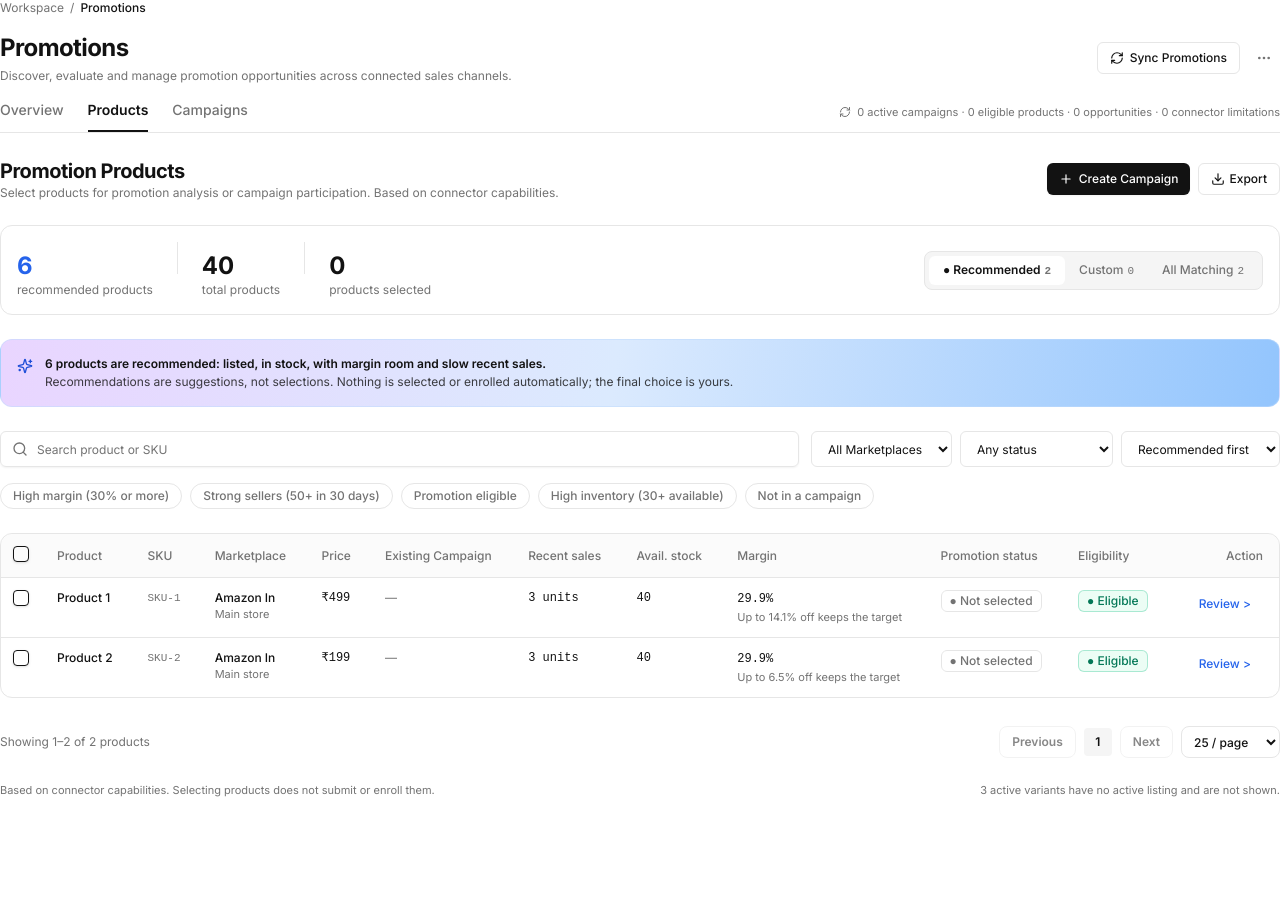
Test: Products tab › opens the Create Campaign dialog with the real products, prices, channel and a margin-safe discount
Expected: the text "Product 1" is shown, [57, 590, 116, 606]
Click the checkbox named "Select all on this page" at coordinates (21, 554), box [13, 546, 29, 562]
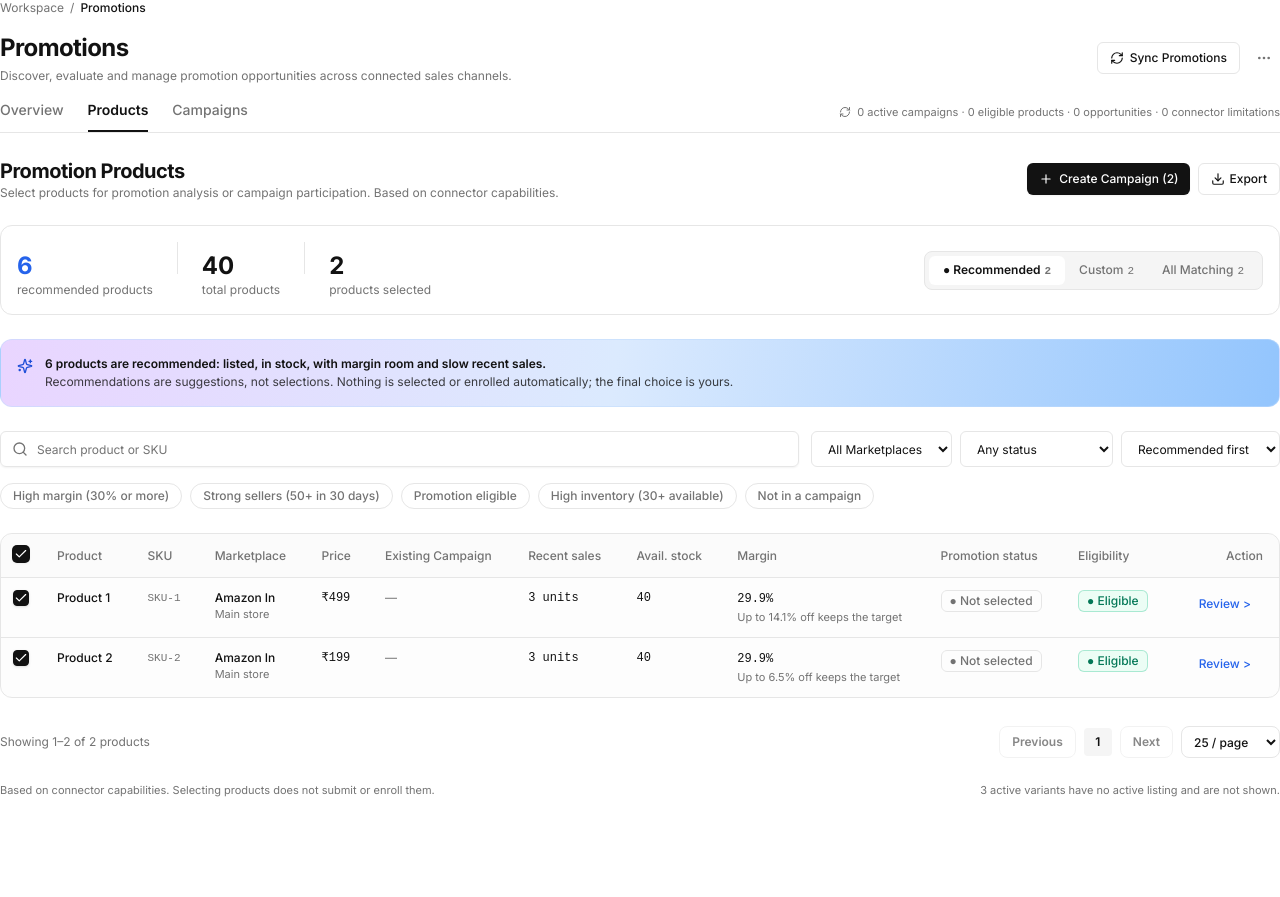
Click the button "Create Campaign (2)" at coordinates (1109, 179), box [1027, 163, 1190, 195]
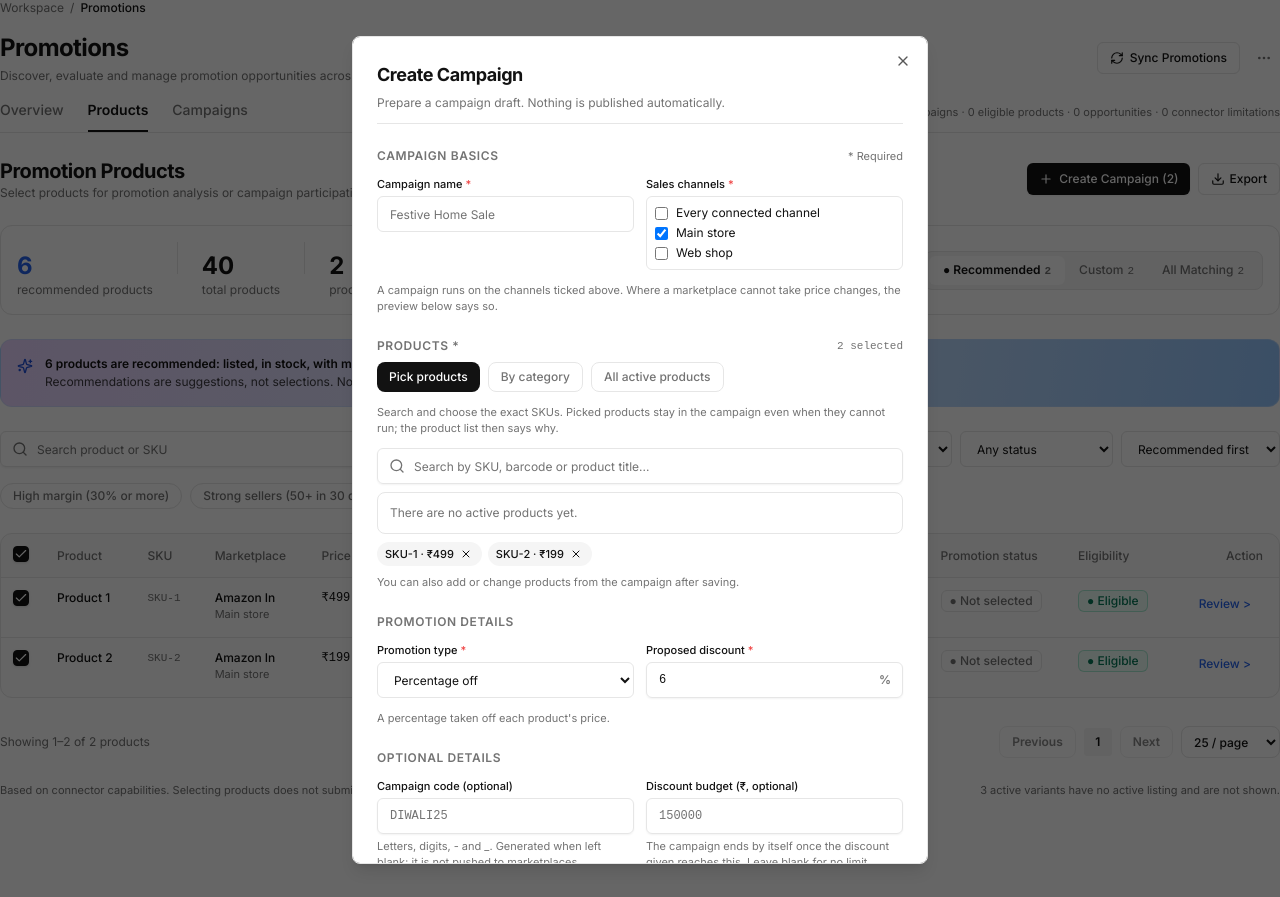
Expected: the text "SKU-1 · ₹499" is shown, [377, 542, 482, 566]
Expected: the text "SKU-2 · ₹199" is shown, [488, 542, 592, 566]
Expected: the checkbox labelled "Main store" is checked, [655, 226, 668, 240]
